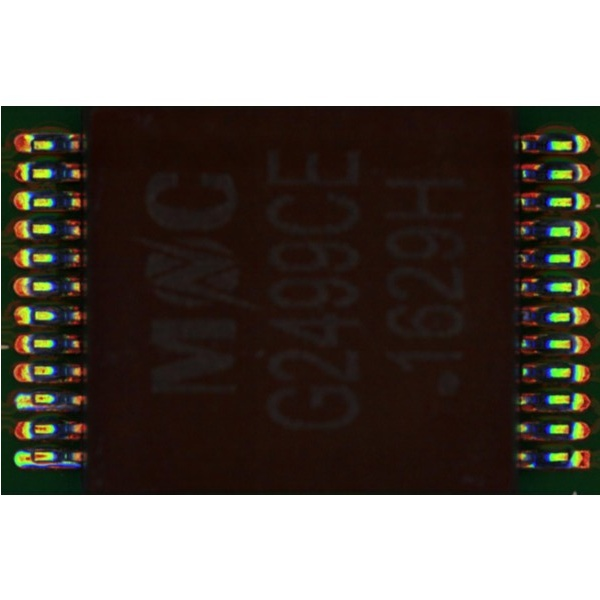Bad_podu: (22, 453, 39, 461)
Bad_qiaojiao: (30, 461, 80, 468)
